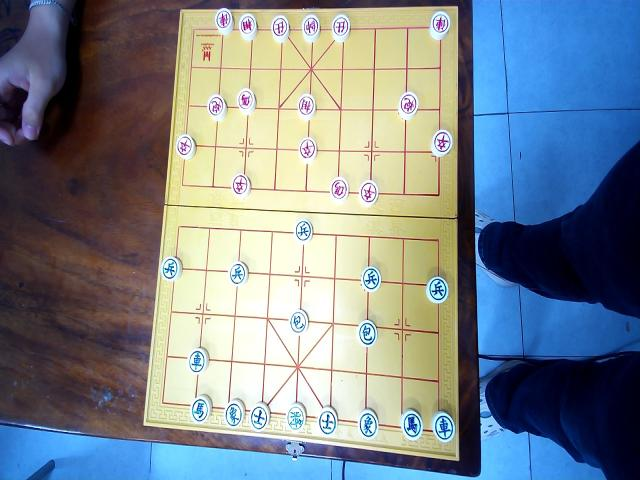piece: (400, 409, 422, 441), (432, 412, 454, 442), (358, 409, 378, 439), (426, 276, 448, 303), (429, 12, 450, 40), (190, 395, 211, 423), (357, 319, 377, 348), (224, 399, 244, 428), (431, 130, 452, 157), (398, 92, 418, 120), (250, 402, 269, 431), (318, 406, 337, 435), (207, 94, 227, 121), (161, 256, 182, 281), (287, 402, 305, 431), (361, 266, 381, 292), (176, 134, 196, 160), (188, 348, 208, 374), (298, 137, 317, 164), (298, 94, 316, 122), (271, 15, 289, 43), (302, 14, 320, 42), (228, 261, 248, 286), (359, 180, 378, 206), (237, 88, 255, 115), (215, 8, 233, 35), (239, 14, 257, 41), (332, 14, 349, 42), (330, 177, 348, 203), (232, 174, 250, 199), (290, 310, 308, 334), (295, 219, 312, 244)
